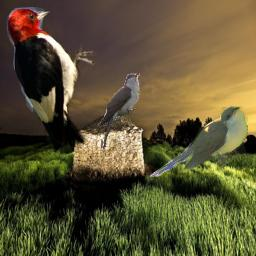Cuckoo: (148, 106, 248, 177), (98, 73, 140, 153)
Woodpecker: (6, 7, 97, 157)
